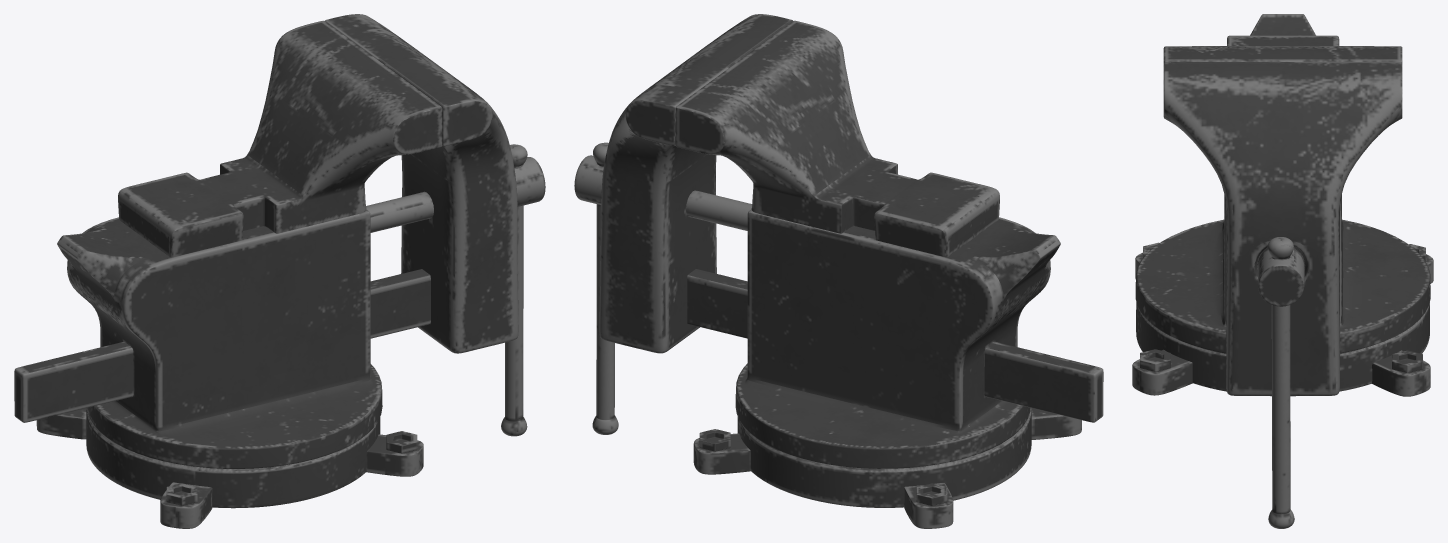
The model's file is Press.fbx.
The picture shows the model from 3 angles, left to right: view 1: azimuth 30°, elevation 25°; view 2: azimuth 150°, elevation 25°; view 3: azimuth 270°, elevation 25°; orthographic projection.
Visible parts, largest first — view 1: 18815_Bench_Vise_V1.002, 18815_Bench_Vise_V1.003, 18815_Bench_Vise_V1, 18815_Bench_Vise_V1.005, 18815_Bench_Vise_V1.001; view 2: 18815_Bench_Vise_V1.002, 18815_Bench_Vise_V1.003, 18815_Bench_Vise_V1, 18815_Bench_Vise_V1.001, 18815_Bench_Vise_V1.005; view 3: 18815_Bench_Vise_V1.003, 18815_Bench_Vise_V1.002, 18815_Bench_Vise_V1, 18815_Bench_Vise_V1.005, 18815_Bench_Vise_V1.001.
Part boxes in pixels (<box>): 18815_Bench_Vise_V1.002: <box>57,20,442,468</box>; 18815_Bench_Vise_V1.003: <box>14,14,518,422</box>; 18815_Bench_Vise_V1: <box>36,408,423,528</box>; 18815_Bench_Vise_V1.005: <box>501,144,527,436</box>; 18815_Bench_Vise_V1.001: <box>366,157,545,232</box>; 18815_Bench_Vise_V1.002: <box>675,20,1060,468</box>; 18815_Bench_Vise_V1.003: <box>599,14,1103,422</box>; 18815_Bench_Vise_V1: <box>693,408,1081,528</box>; 18815_Bench_Vise_V1.001: <box>574,155,751,230</box>; 18815_Bench_Vise_V1.005: <box>592,142,618,434</box>; 18815_Bench_Vise_V1.003: <box>1163,62,1402,395</box>; 18815_Bench_Vise_V1.002: <box>1135,14,1430,353</box>; 18815_Bench_Vise_V1: <box>1132,242,1433,396</box>; 18815_Bench_Vise_V1.005: <box>1267,237,1294,528</box>; 18815_Bench_Vise_V1.001: <box>1258,248,1304,306</box>.
Bounding box in the file's own units: 64.67 × 48.16 × 32.77.
